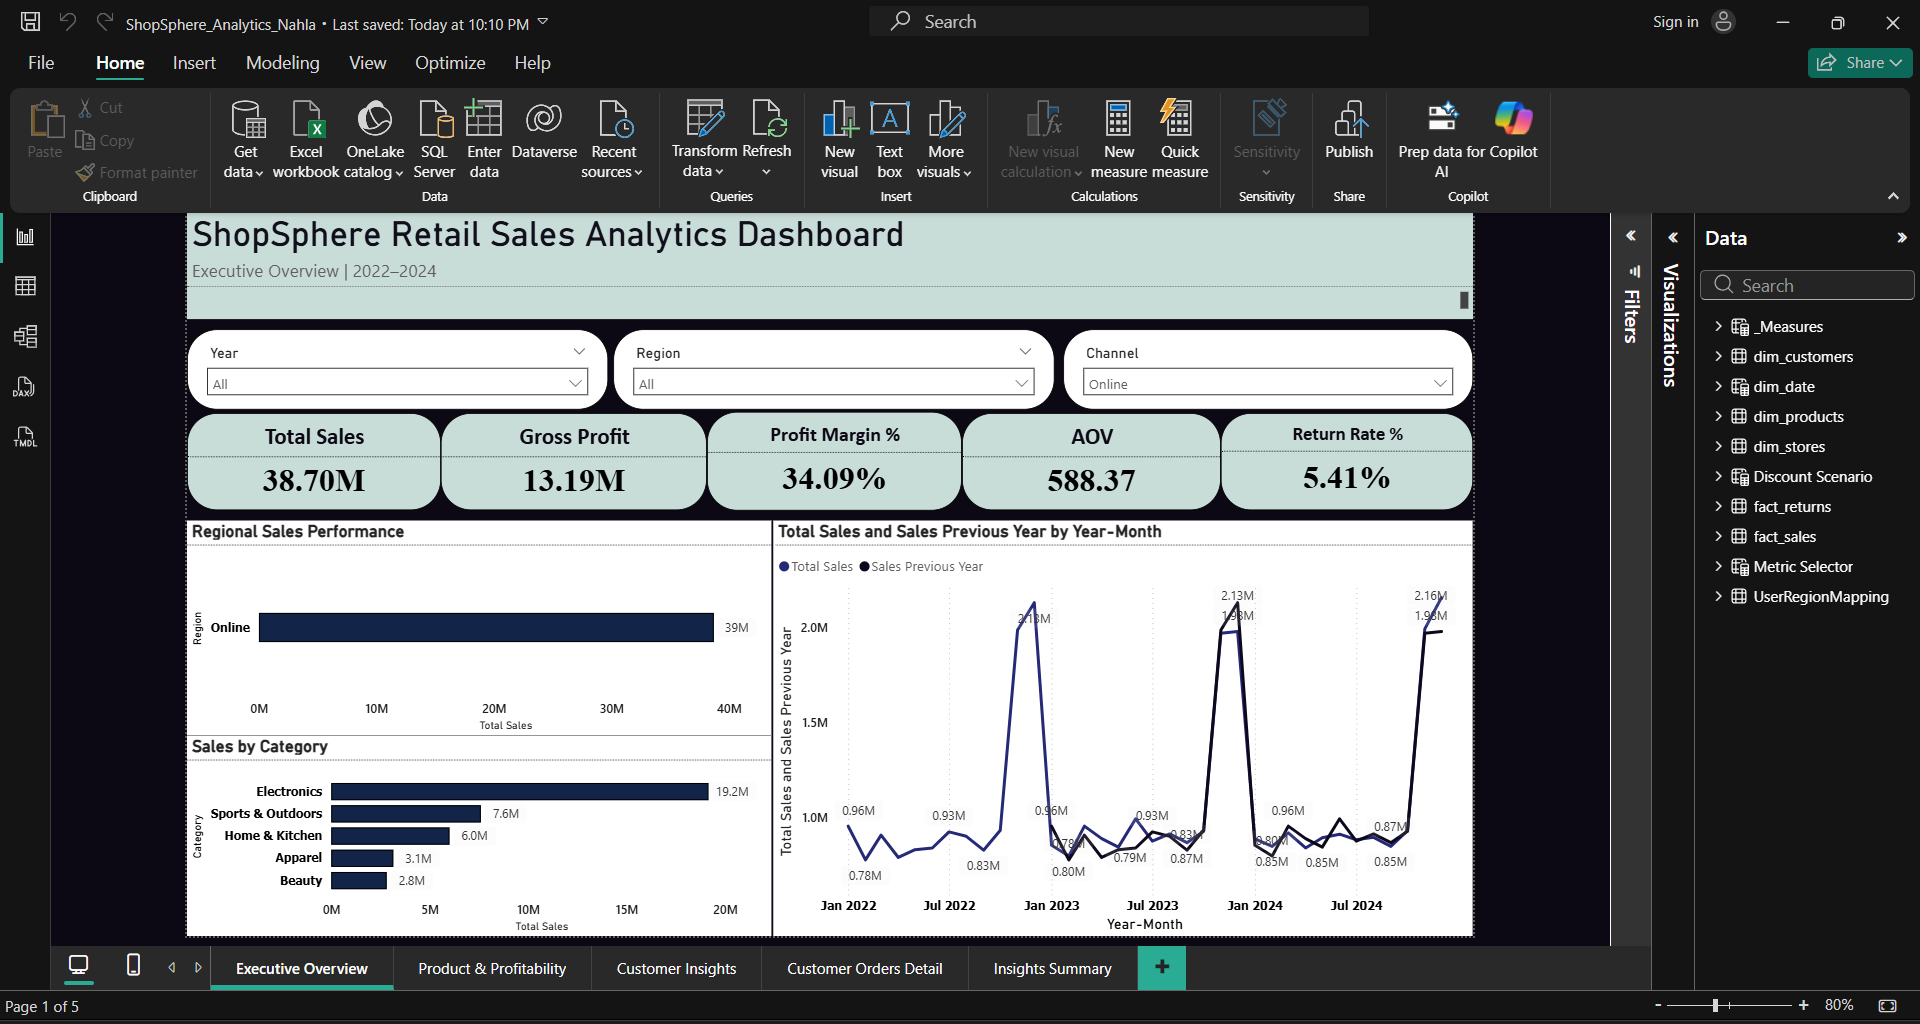

What the dashboard file says about the page in this screenshot:
{"tool":"powerbi","page":{"name":"Executive Overview","canvas":[1280,720],"ordinal":0},"visuals":[{"type":"card","title":"Total Sales","fields":{"Values":["_Measures.Total Sales"]},"box":[0,199,252.5,97],"z":0},{"type":"card","title":"Gross Profit","fields":{"Values":["_Measures.Gross Profit"]},"box":[252.5,199,265,97],"z":1000},{"type":"card","title":"Profit Margin %","fields":{"Values":["_Measures.Profit Margin %"]},"box":[517.5,197.8,253.8,98.3],"z":2000},{"type":"card","title":"AOV","fields":{"Values":["_Measures.AOV"]},"box":[771.3,199,257.5,97],"z":3000},{"type":"card","title":"Return Rate %","fields":{"Values":["_Measures.Return Rate %"]},"box":[1028.8,199,251.3,97],"z":4000},{"type":"textbox","title":"ShopSphere Retail Sales Analytics Dashboard","box":[0,0,1280,105.7],"z":5000},{"type":"lineChart","fields":{"Category":["dim_date.Year-Month"],"Y":["_Measures.Total Sales","_Measures.Sales Previous Year"]},"box":[583.8,306.2,696.2,413.8],"z":6000},{"type":"clusteredBarChart","title":"Sales by Category","fields":{"Category":["dim_products.Category"],"Y":["_Measures.Total Sales"]},"box":[0,520,581.2,200],"z":7000},{"type":"clusteredBarChart","title":"Regional Sales Performance","fields":{"Category":["dim_stores.Region"],"Y":["_Measures.Total Sales"]},"box":[0,306.2,581.2,213.8],"z":8000},{"type":"slicer","fields":{"Values":["dim_date.Year"]},"box":[0,115.7,419.2,79.6],"z":9000},{"type":"slicer","fields":{"Values":["dim_stores.Region"]},"box":[424.2,115.7,439.1,79.6],"z":10000},{"type":"slicer","fields":{"Values":["fact_sales.Channel"]},"box":[872,115.7,408,79.6],"z":11000}]}

Visuals, with their boxes on the page's 1280x720 design canvas (x1, y1, x2, y2). These are canvas units, not pixel positions in the 1920x1024 screenshot, which may show the page scaled, cropped or inside an application window:
"Total Sales" card: BBox(0, 199, 252, 296)
"Gross Profit" card: BBox(252, 199, 518, 296)
"Profit Margin %" card: BBox(518, 198, 771, 296)
"AOV" card: BBox(771, 199, 1029, 296)
"Return Rate %" card: BBox(1029, 199, 1280, 296)
"ShopSphere Retail Sales Analytics Dashboard" textbox: BBox(0, 0, 1280, 106)
lineChart - dim_date.Year-Month x _Measures.Total Sales: BBox(584, 306, 1280, 720)
"Sales by Category" clusteredBarChart: BBox(0, 520, 581, 720)
"Regional Sales Performance" clusteredBarChart: BBox(0, 306, 581, 520)
slicer - dim_date.Year: BBox(0, 116, 419, 195)
slicer - dim_stores.Region: BBox(424, 116, 863, 195)
slicer - fact_sales.Channel: BBox(872, 116, 1280, 195)
